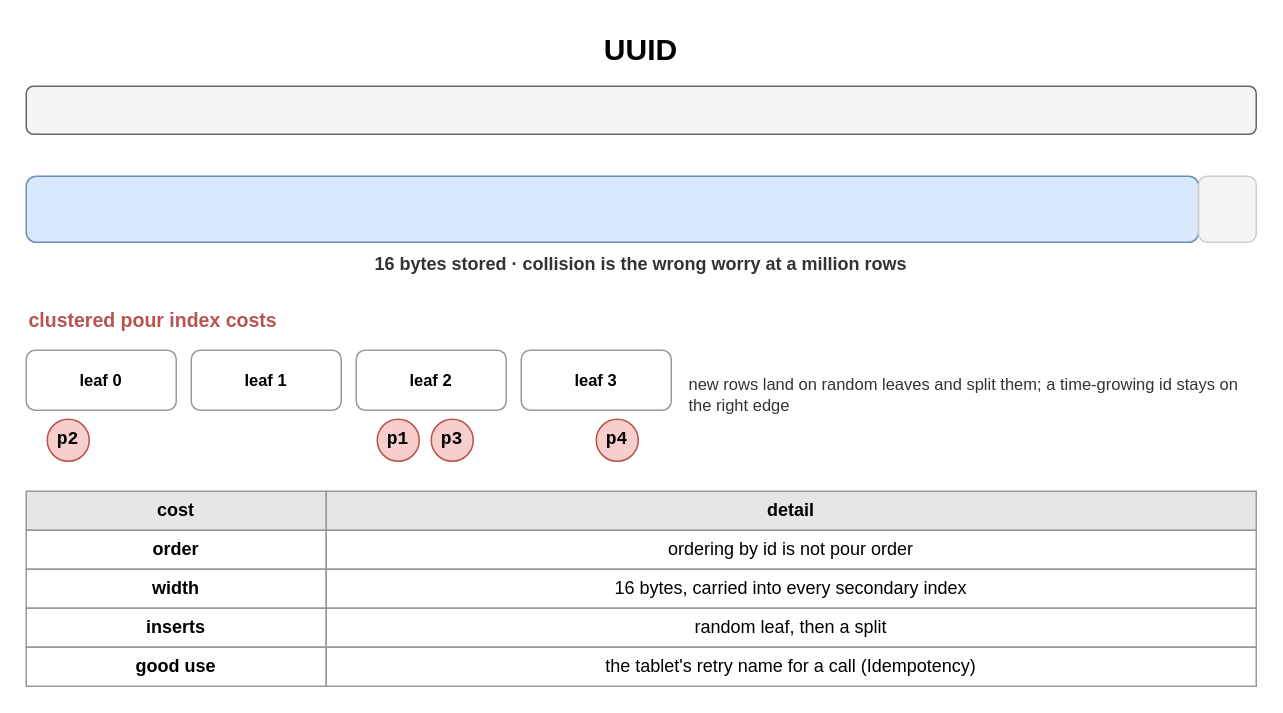
The diagram is 1283 pixels wide and 713 high, and some of its shapes have lost their labels. The shapes that lost their labels are listed below. From the top down, each one's box as (x1, y1, x2, y2) in pixels, then its label:
(25, 85, 1256, 134): 128 bits, minted anywhere; version 4 draws 122 at random
(25, 175, 1199, 242): 122 random
(1197, 175, 1256, 242): 6 ver+var
